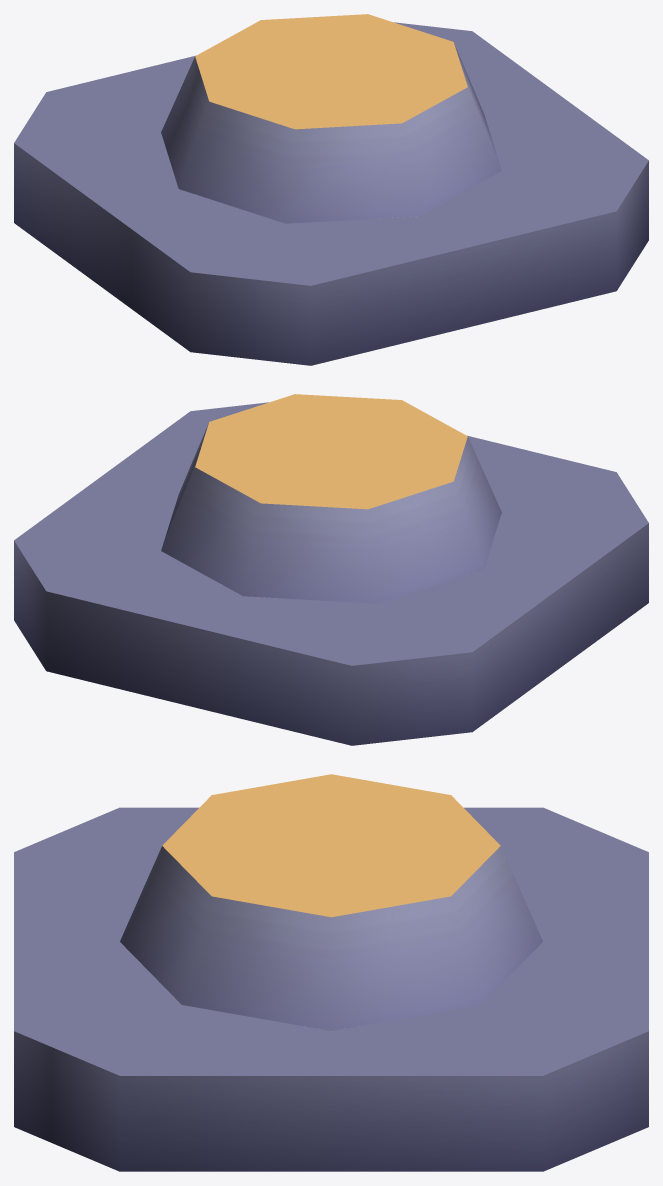
Rendered from kenney-factory-button-floor-round-small.glb.
3 views of the same model, one above another, from view 1: azimuth 30°, elevation 25°; view 2: azimuth 150°, elevation 25°; view 3: azimuth 270°, elevation 25° (orthographic). The views are drawn at different scales.
Parts seen in each view (by area): view 1: button-floor-round-small, button; view 2: button-floor-round-small, button; view 3: button-floor-round-small, button.
Boxes of the visible parts, left/top/right/bottom form: button-floor-round-small: left=14, top=22, right=648, bottom=365; button: left=161, top=14, right=501, bottom=223; button-floor-round-small: left=14, top=402, right=648, bottom=745; button: left=161, top=394, right=501, bottom=603; button-floor-round-small: left=14, top=807, right=648, bottom=1171; button: left=120, top=774, right=542, bottom=1030.
Bounding box in the file's own units: 0.3 × 0.1 × 0.3.
Materials: 1 (1 with a texture image).
